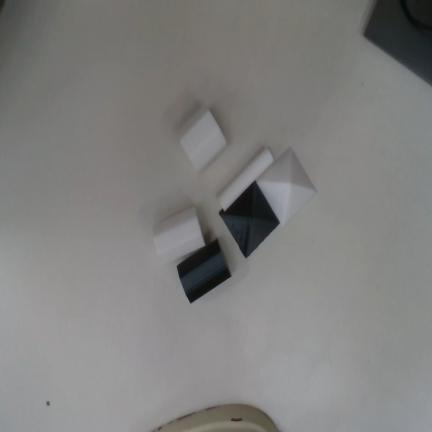Cilindro: (218, 147, 275, 211)
Piramide: (218, 179, 281, 259), (257, 146, 318, 225)
Prisma_hexagonal: (174, 103, 227, 177), (177, 238, 232, 303), (151, 204, 207, 265)
